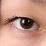eye: (20, 18, 34, 29)
